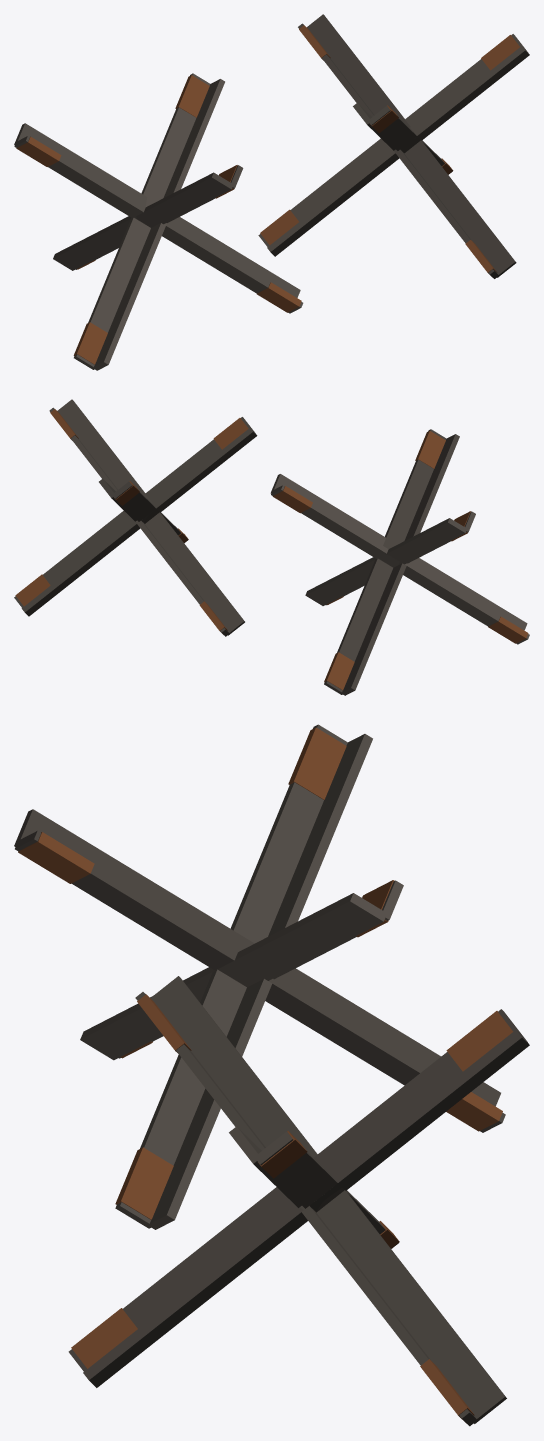
The model's file is defensa-erizos.glb.
3 renders of one model, top to bottom at view 1: azimuth 30°, elevation 25°; view 2: azimuth 150°, elevation 25°; view 3: azimuth 270°, elevation 25°, orthographic. The views are drawn at different scales.
Parts seen in each view (by area): view 1: defensa-erizos; view 2: defensa-erizos; view 3: defensa-erizos.
Part boxes in pixels (box(x1,y1,x2,y2)): defensa-erizos: box(14, 14, 529, 370); defensa-erizos: box(14, 399, 529, 695); defensa-erizos: box(14, 724, 529, 1426).
Size of the model in its own units: 2.1 by 0.7863 by 1.12.
